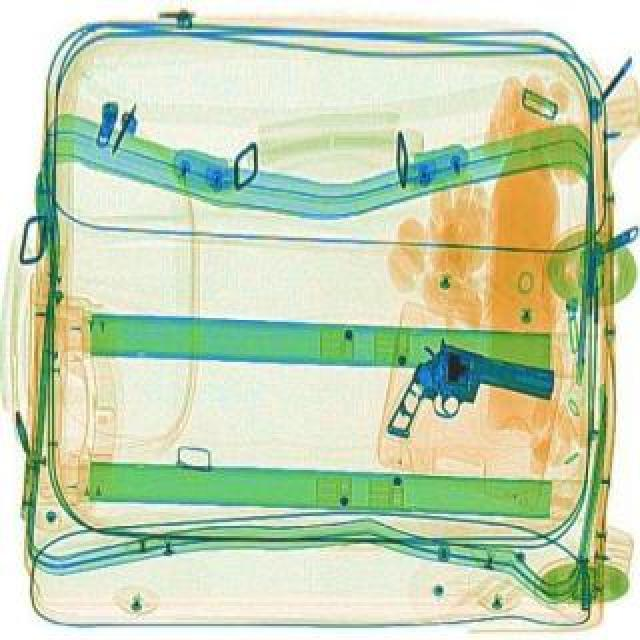gun: (372, 314, 568, 484)
